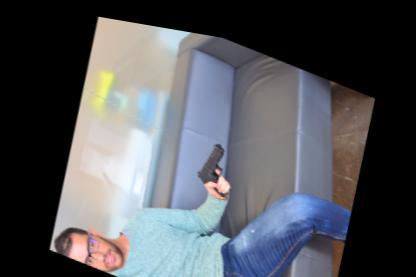pistol: (192, 128, 238, 191)
